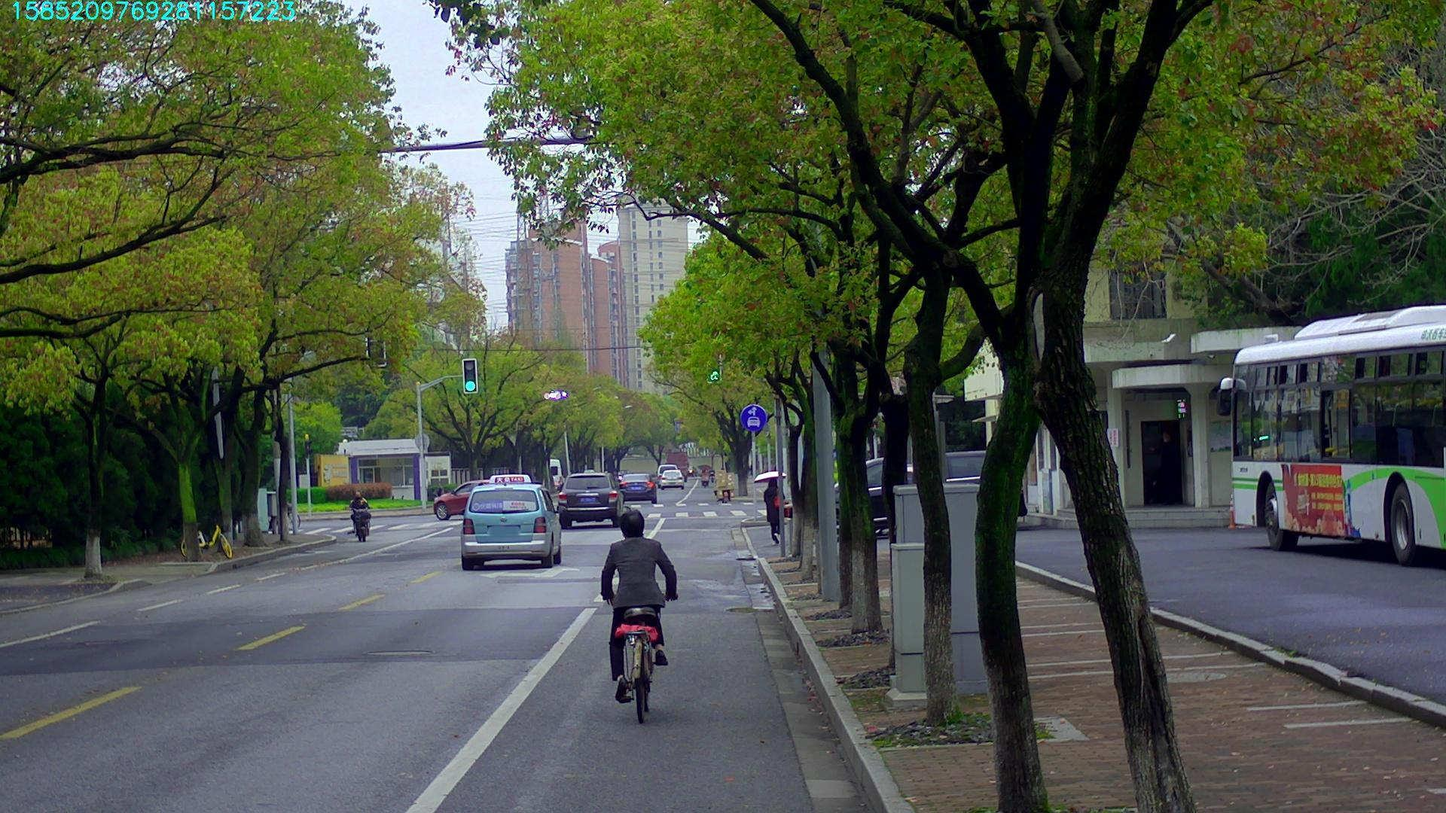green: (462, 359, 475, 392), (707, 368, 722, 382)
